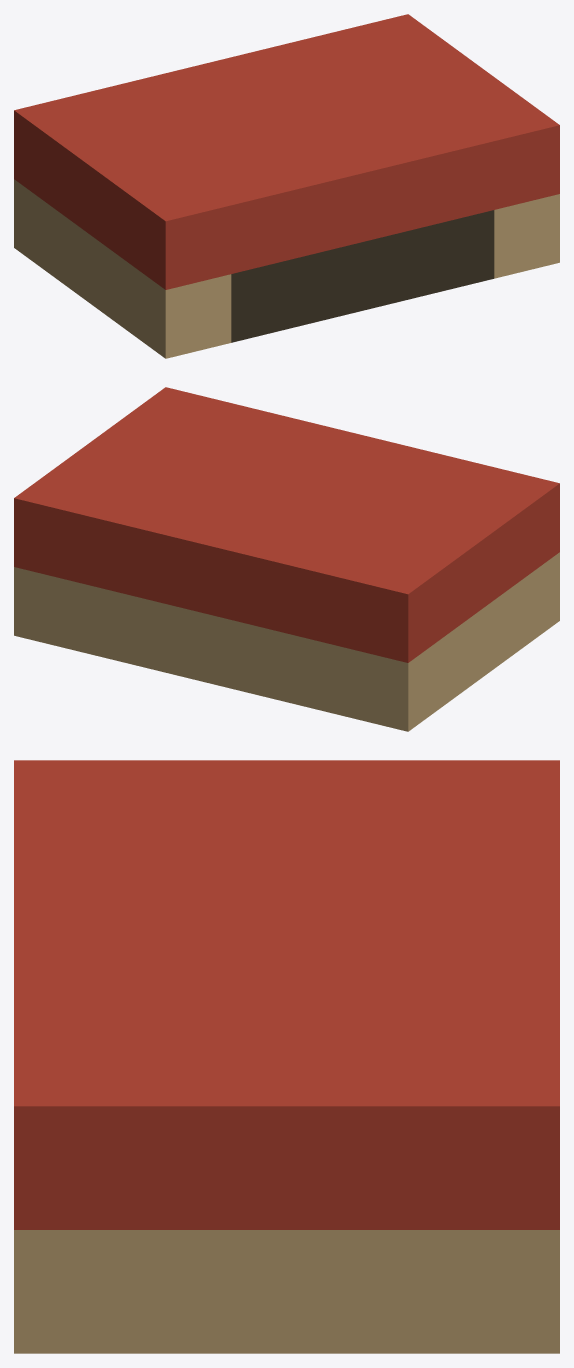
File: matches.glb
3 renders of one model, top to bottom at view 1: azimuth 30°, elevation 25°; view 2: azimuth 150°, elevation 25°; view 3: azimuth 270°, elevation 25°, orthographic. The views are drawn at different scales.
Parts seen in each view (by area): view 1: matches:matchbox; view 2: matches:matchbox; view 3: matches:matchbox.
Part boxes in pixels (x1,y1,x2,y2): matches:matchbox: (14,14,559,358); matches:matchbox: (14,387,559,731); matches:matchbox: (14,760,559,1353).
Bounding box in the file's own units: 0.06 × 0.02 × 0.04.
